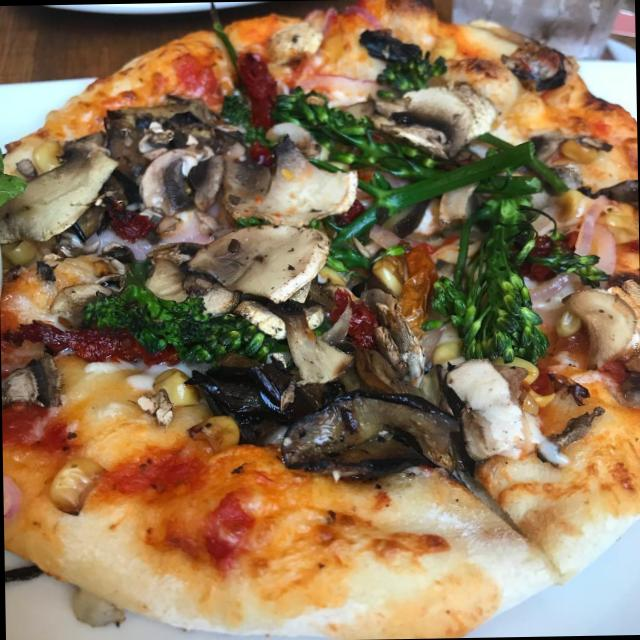mushrooms: (447, 352, 566, 476), (0, 130, 119, 239), (218, 135, 356, 225), (194, 223, 335, 301), (276, 294, 354, 420), (364, 80, 495, 154), (103, 92, 206, 183), (142, 236, 240, 316), (360, 302, 432, 393), (136, 144, 218, 220), (236, 286, 324, 342), (5, 352, 72, 413), (46, 270, 121, 320)
pizza: (0, 0, 640, 639)
